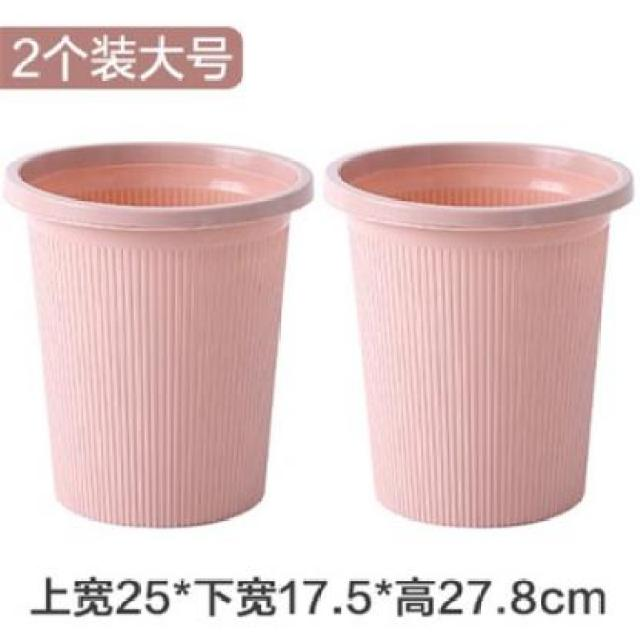dustbin: (0, 135, 318, 533), (323, 135, 639, 531)
